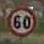limite 60: (7, 5, 36, 36)
